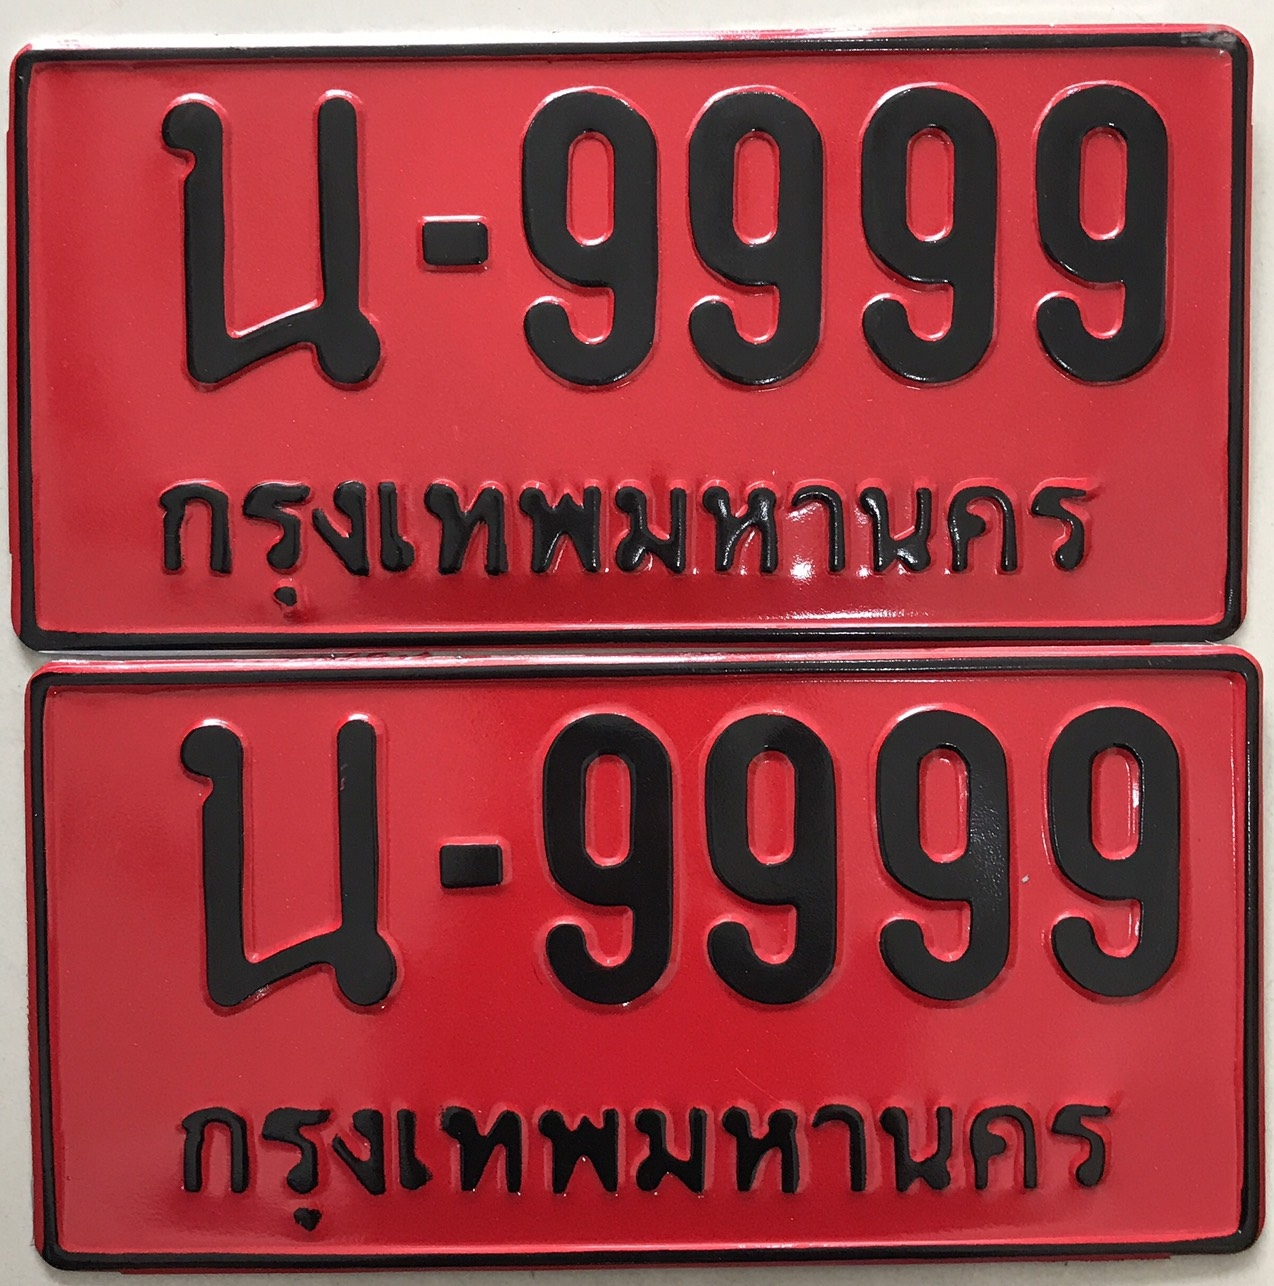Bangkok: (125, 442, 1128, 615)
